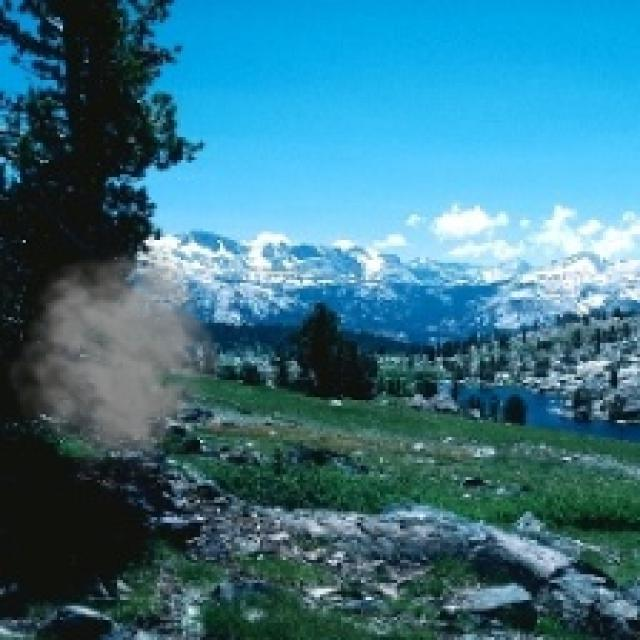Smoke: (6, 246, 220, 477)
